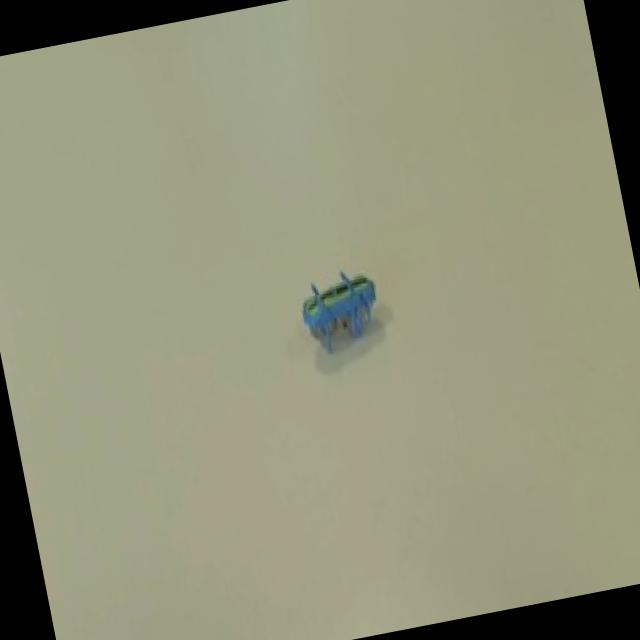3_NanoBug_Celeste: (268, 248, 414, 369)
